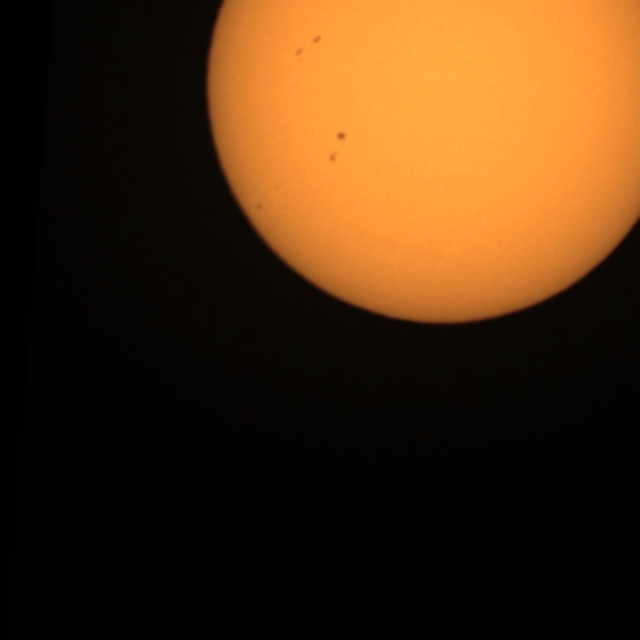sunspot: (325, 130, 349, 166), (292, 33, 324, 60), (326, 147, 343, 166), (334, 130, 349, 144), (310, 33, 324, 47), (293, 45, 305, 60), (253, 201, 265, 214)
